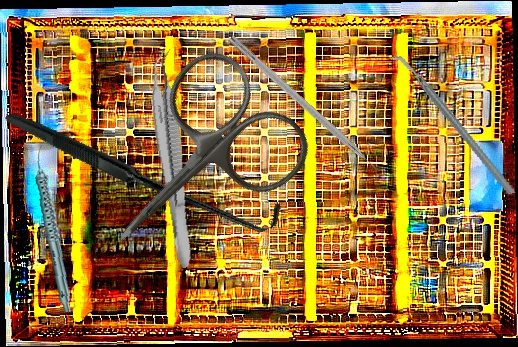Chopper: (220, 34, 388, 189), (388, 33, 516, 216)
Handpiece: (27, 144, 80, 313)
Hook Surgical: (4, 25, 288, 312)
Iris Scissors: (64, 37, 323, 295)
Tissue Forceps: (142, 48, 206, 270)
